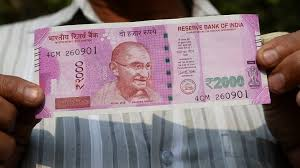twoThousand: (48, 41, 252, 93)
